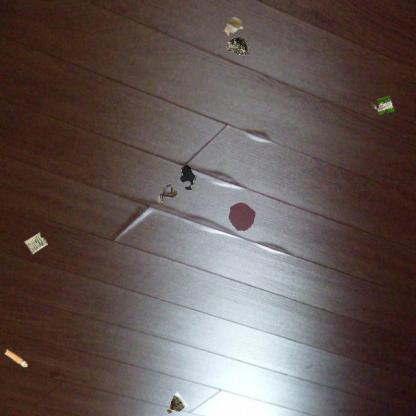dirty: (165, 390, 191, 415), (155, 182, 180, 208), (225, 35, 252, 58), (369, 94, 396, 116), (222, 15, 245, 38), (24, 232, 48, 254), (4, 349, 28, 368)
liquid: (228, 201, 257, 233), (179, 163, 197, 190)
